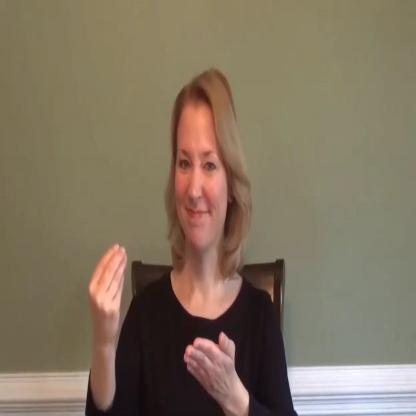Expensive: (84, 228, 240, 416)
